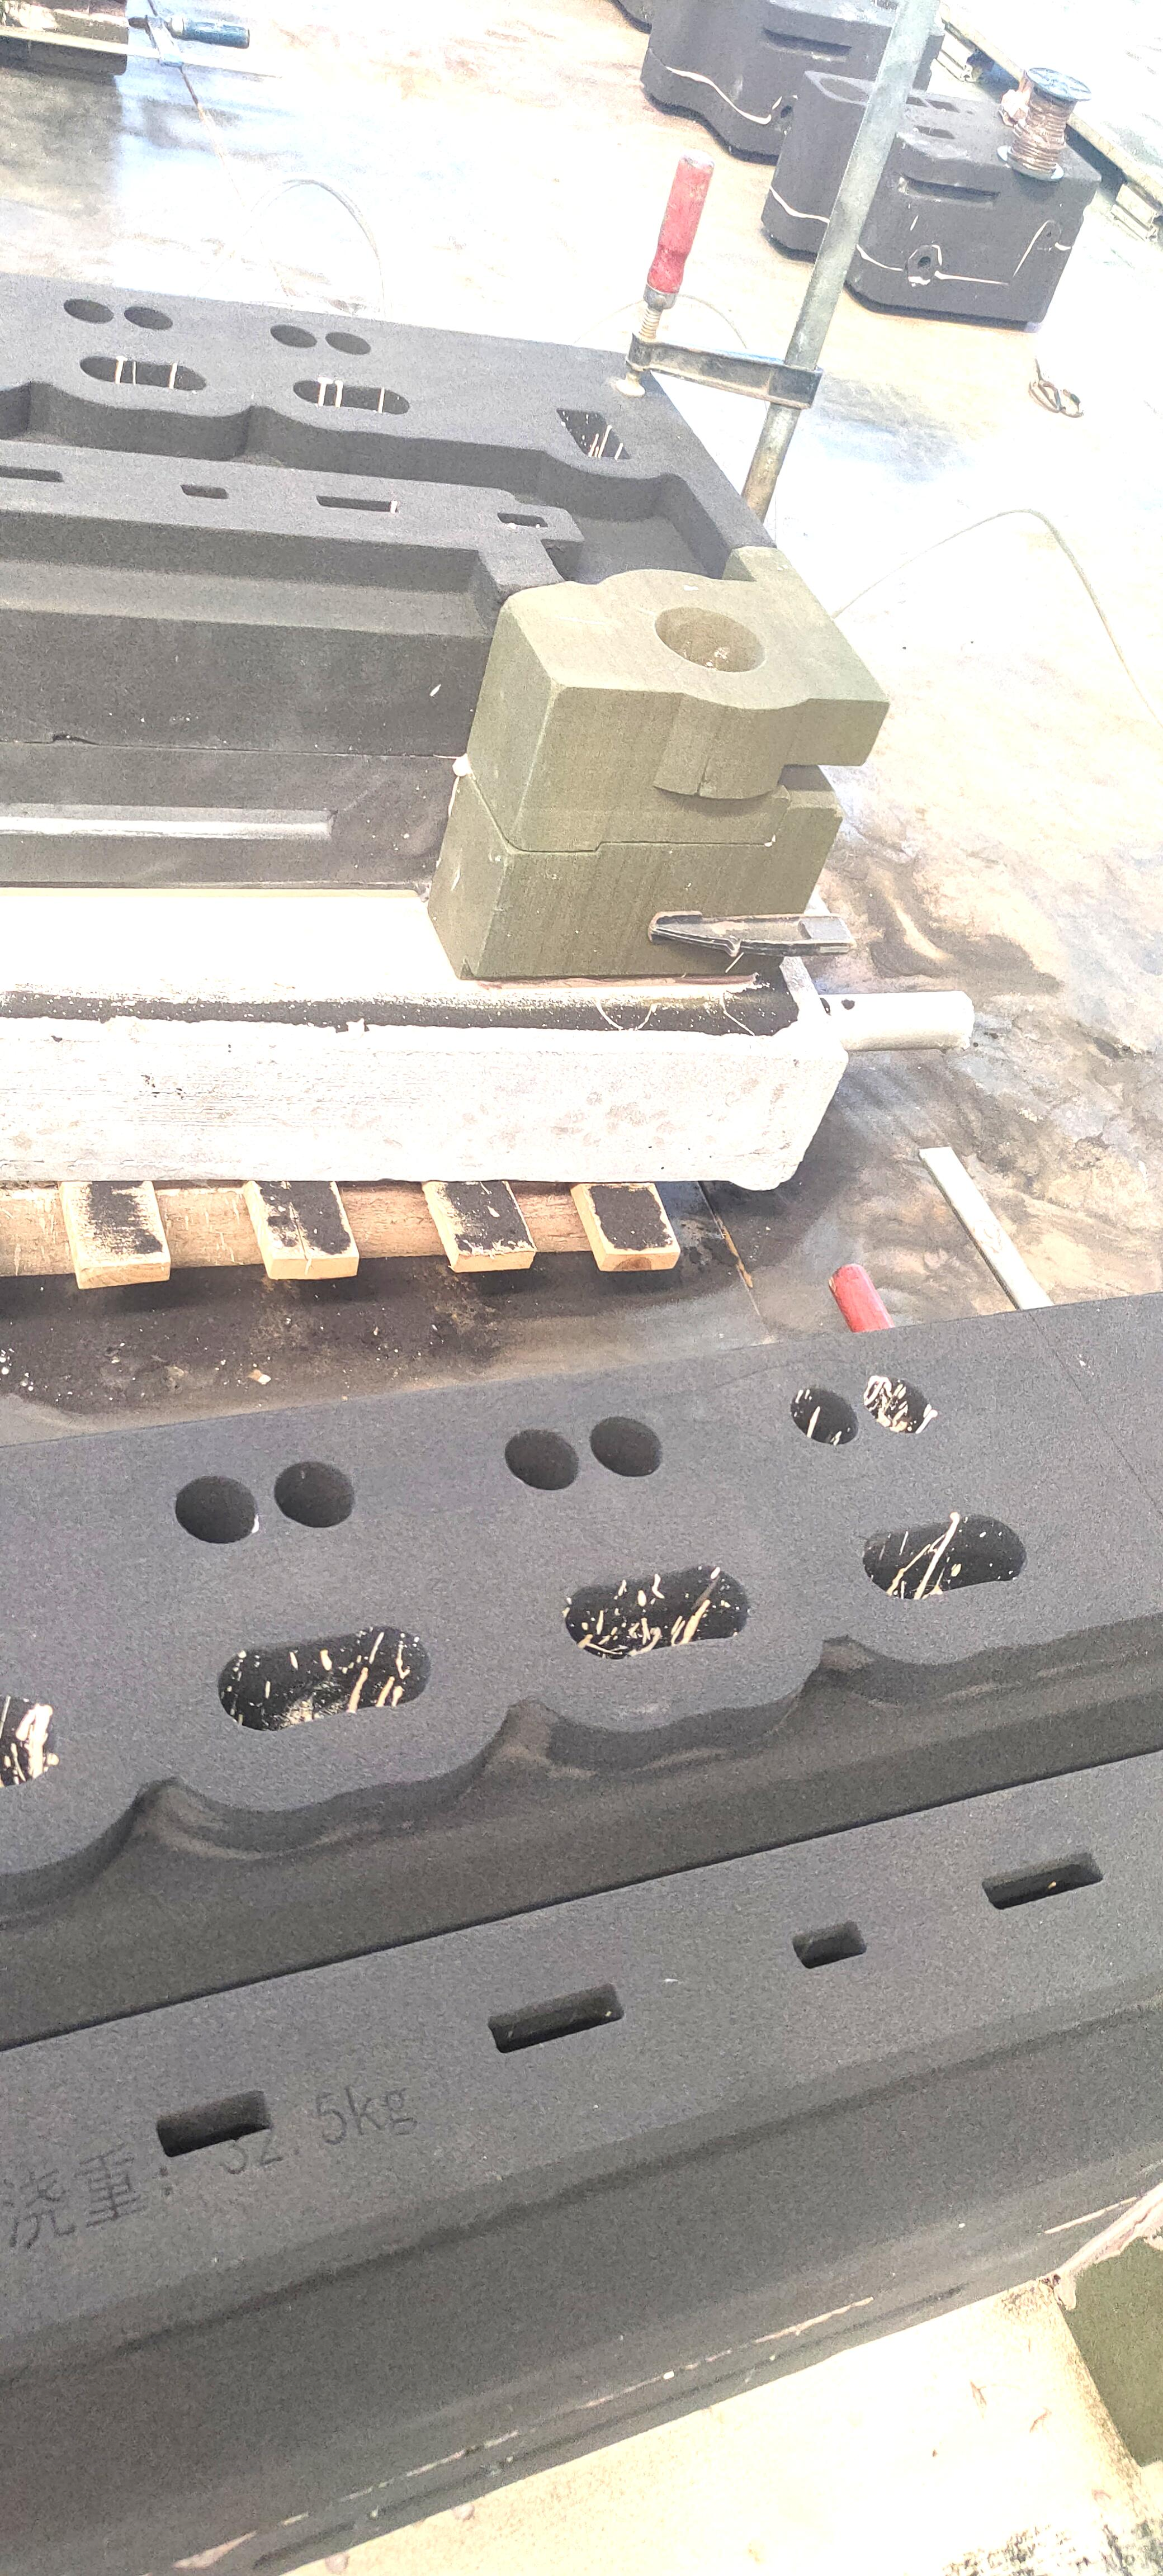pouring hole: (657, 606, 764, 674), (816, 77, 872, 103)
